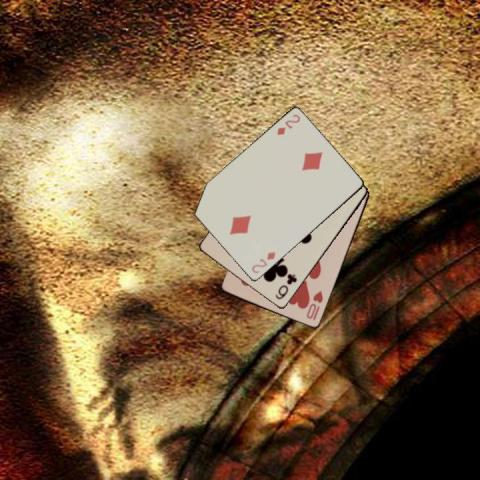10h: (303, 288, 325, 322)
2d: (248, 248, 276, 274), (274, 111, 302, 137)
6c: (272, 271, 299, 301)
